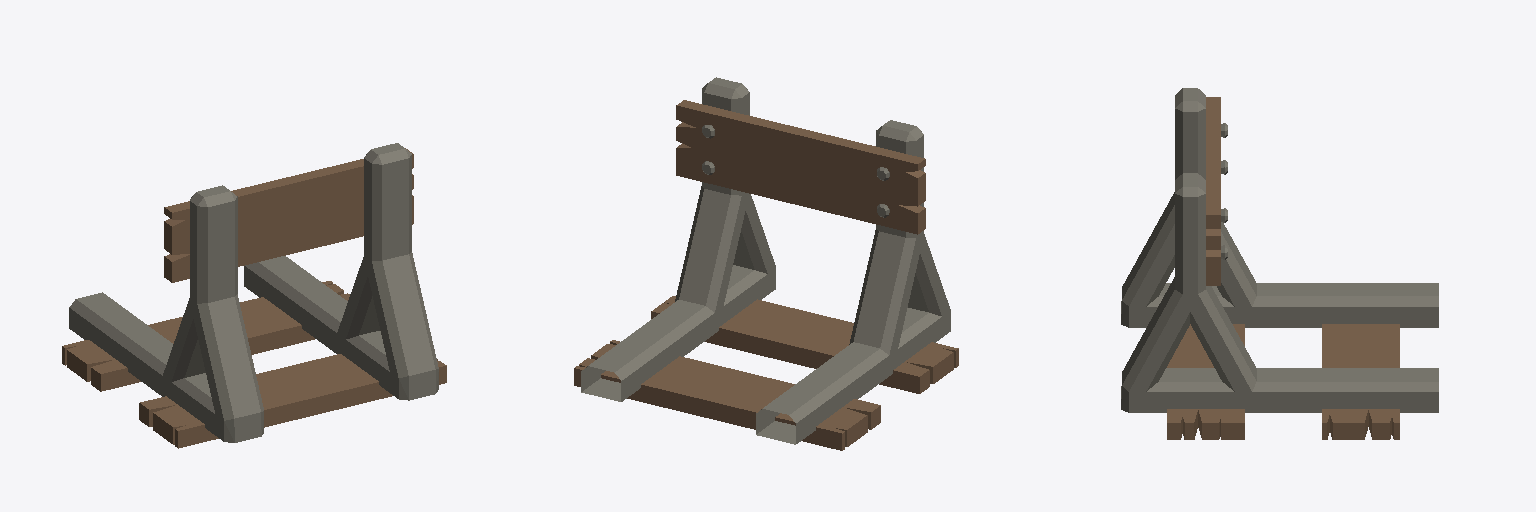
Rendered from Cave_Prop_Railway_Bumpstop.obj.
3 views of the same model, side by side, from view 1: azimuth 30°, elevation 25°; view 2: azimuth 150°, elevation 25°; view 3: azimuth 270°, elevation 25° (orthographic).
Visible parts, largest first — view 1: object6, object9, object3, object2, object1; view 2: object3, object6, object9, object1, object2; view 3: object9, object6, object1, object2, object3.
Part boxes in pixels (left/top/right/bottom): object6: left=69, top=185, right=263, bottom=442; object9: left=244, top=143, right=438, bottom=400; object3: left=164, top=148, right=413, bottom=282; object2: left=139, top=354, right=446, bottom=448; object1: left=62, top=281, right=349, bottom=391; object3: left=676, top=100, right=925, bottom=234; object6: left=756, top=120, right=950, bottom=444; object9: left=581, top=77, right=775, bottom=401; object1: left=574, top=340, right=880, bottom=450; object2: left=651, top=296, right=958, bottom=393; object9: left=1121, top=173, right=1438, bottom=412; object6: left=1121, top=88, right=1438, bottom=327; object1: left=1322, top=324, right=1399, bottom=439; object2: left=1167, top=324, right=1244, bottom=439; object3: left=1206, top=97, right=1220, bottom=285.
Size of the model in its own units: 1 by 0.8444 by 1.02.